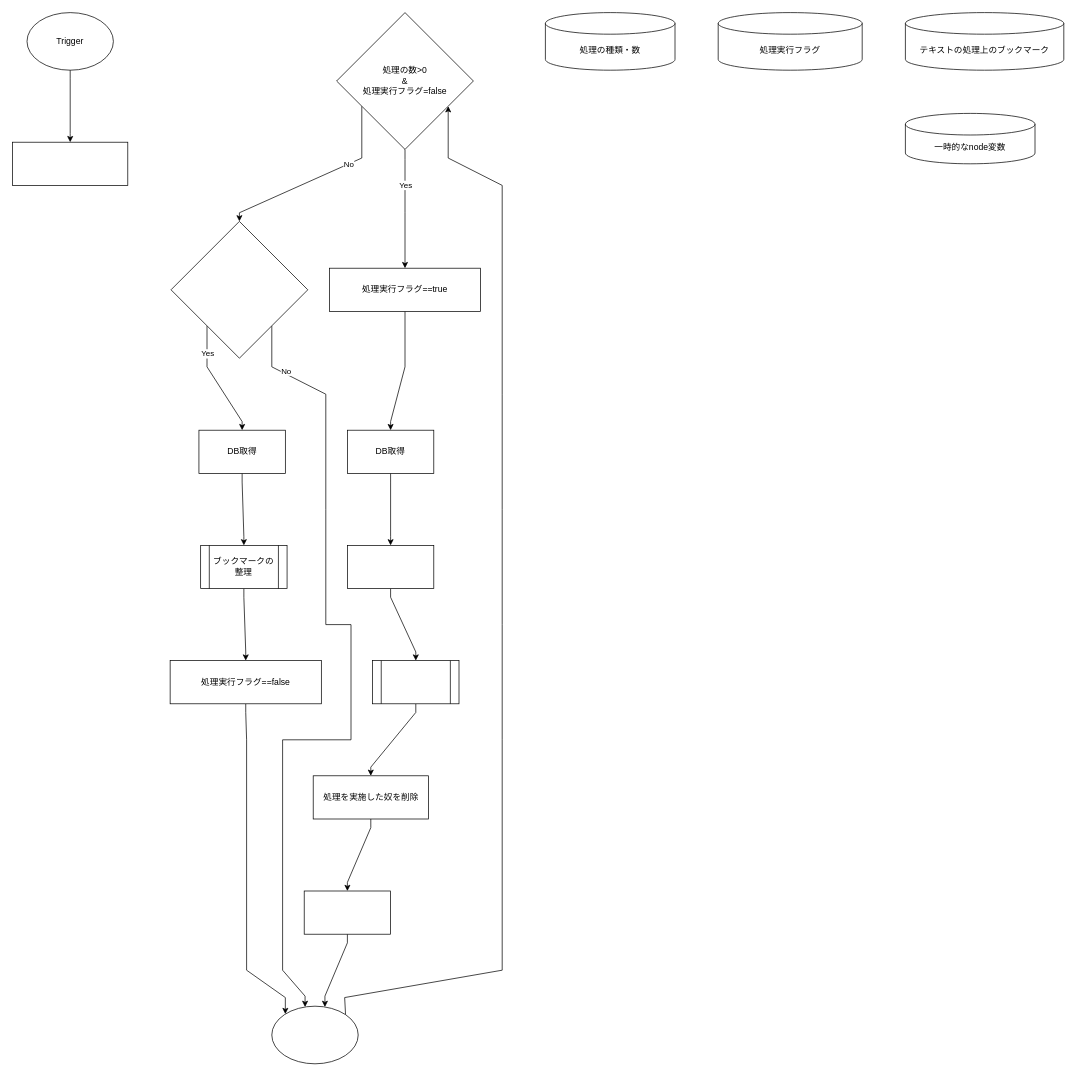
This 1076x1076 diagram has some shape labels left out. Here are the shapes that lost their labels. From the top down, the box of each, then its label:
(12, 141, 128, 185): 処理の種類をDBに追加
(170, 221, 308, 358): 処理実行フラグ=true
(347, 545, 434, 589): 処理の種類を分類
(372, 660, 459, 704): 実処理
(303, 890, 391, 934): DB書込
(271, 1005, 358, 1064): 監視処理（常駐）
